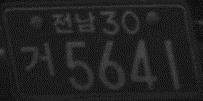0: (121, 10, 140, 36)
1: (162, 37, 181, 92)
3: (98, 10, 118, 35)
4: (130, 39, 158, 89)
5: (63, 40, 95, 92)
6: (97, 38, 126, 91)
거: (19, 42, 57, 80)
전남_O: (51, 10, 96, 34)
